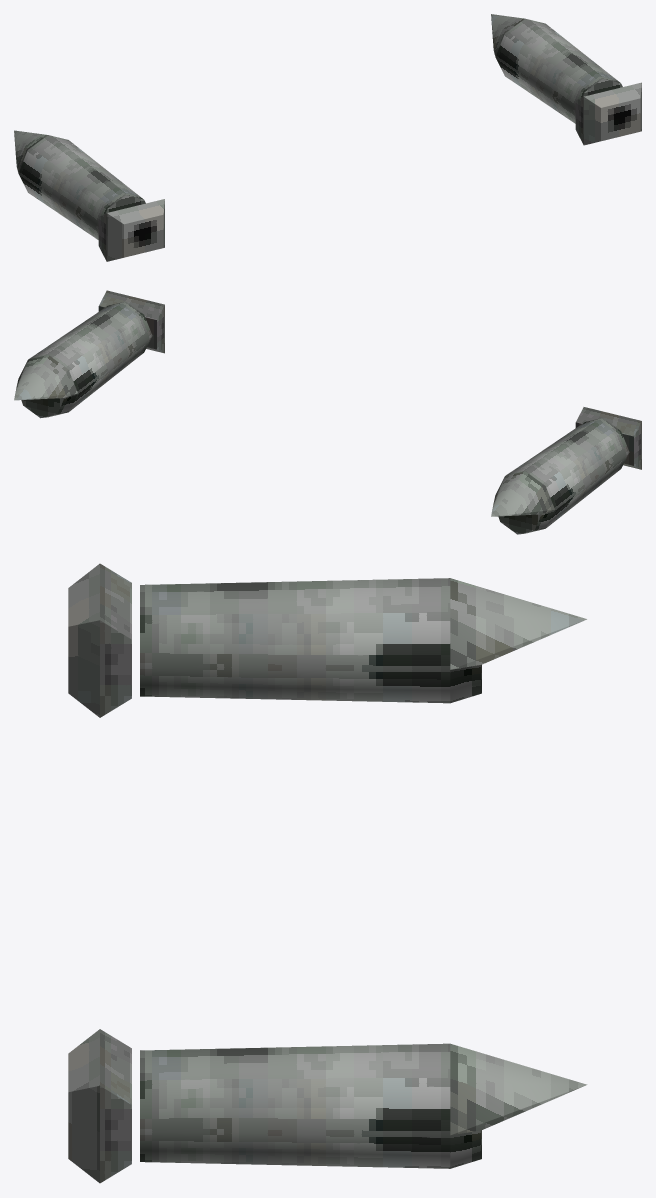
File: black_sun_fighter_heavy_weapon2_s03_l2.fbx
The picture shows the model from 3 angles, top to bottom: view 1: azimuth 30°, elevation 25°; view 2: azimuth 150°, elevation 25°; view 3: azimuth 270°, elevation 25°; orthographic projection. The views are drawn at different scales.
Visible parts, largest first — view 1: mesh_node; view 2: mesh_node; view 3: mesh_node.
Part boxes in pixels (x1,y1,x2,y2): mesh_node: (14,14,641,261); mesh_node: (14,290,641,534); mesh_node: (68,563,587,1183).
Size of the model in its own units: 4.87 by 0.5418 by 2.04.
